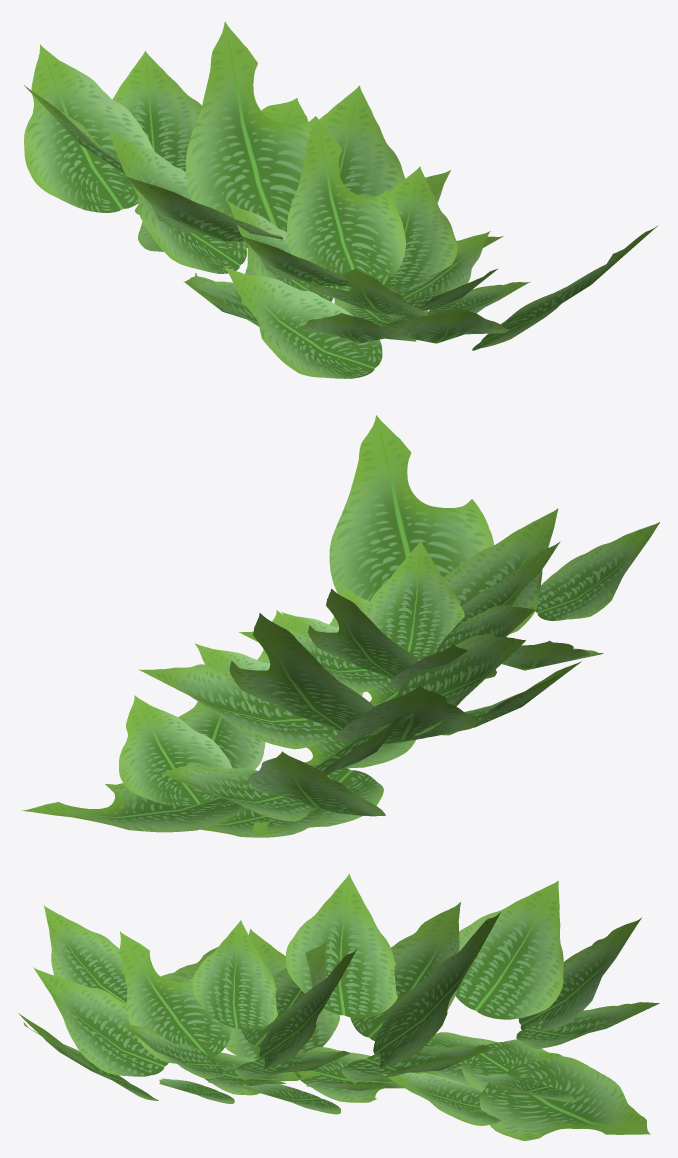
The model's file is bush_4_grand.fbx.
The picture shows the model from 3 angles, top to bottom: view 1: azimuth 30°, elevation 25°; view 2: azimuth 150°, elevation 25°; view 3: azimuth 270°, elevation 25°; orthographic projection. The views are drawn at different scales.
Parts seen in each view (by area): view 1: feuillage_4_grand; view 2: feuillage_4_grand; view 3: feuillage_4_grand.
Part boxes in pixels (box(x1,y1,x2,y2)): feuillage_4_grand: box(24, 21, 658, 378); feuillage_4_grand: box(22, 415, 659, 837); feuillage_4_grand: box(18, 873, 659, 1140).
Bounding box in the file's own units: 114 × 63.48 × 209.
